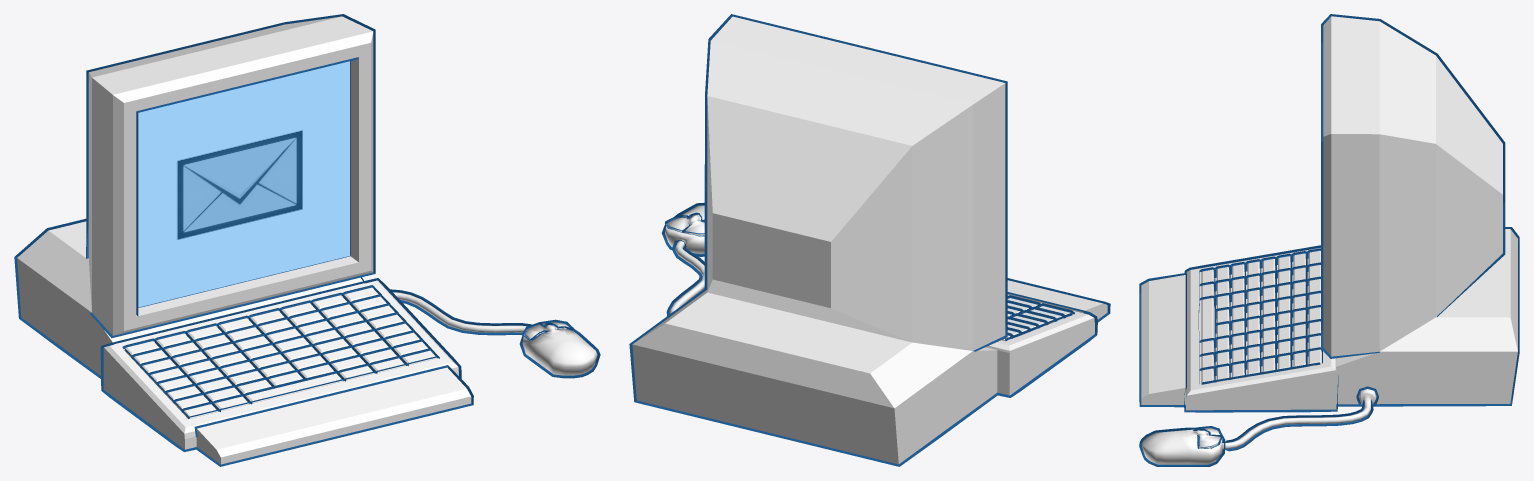
Rendered from computer.glb.
3 views of the same model, side by side, from view 1: azimuth 30°, elevation 25°; view 2: azimuth 150°, elevation 25°; view 3: azimuth 270°, elevation 25° (orthographic). The views are drawn at different scales.
Parts seen in each view (by area): view 1: Cube003, Cube003_2, Cube003_1; view 2: Cube003, Cube003_1; view 3: Cube003, Cube003_1.
Part boxes in pixels (x1,y1,x2,y2): Cube003: (17, 16, 597, 464); Cube003_2: (138, 61, 349, 307); Cube003_1: (14, 14, 600, 466); Cube003: (632, 16, 1107, 464); Cube003_1: (629, 14, 1110, 466); Cube003: (1141, 16, 1517, 464); Cube003_1: (1139, 14, 1519, 466).
Bounding box in the file's own units: 11.77 × 8.39 × 10.45.
Materials: 3 (1 with a texture image).
